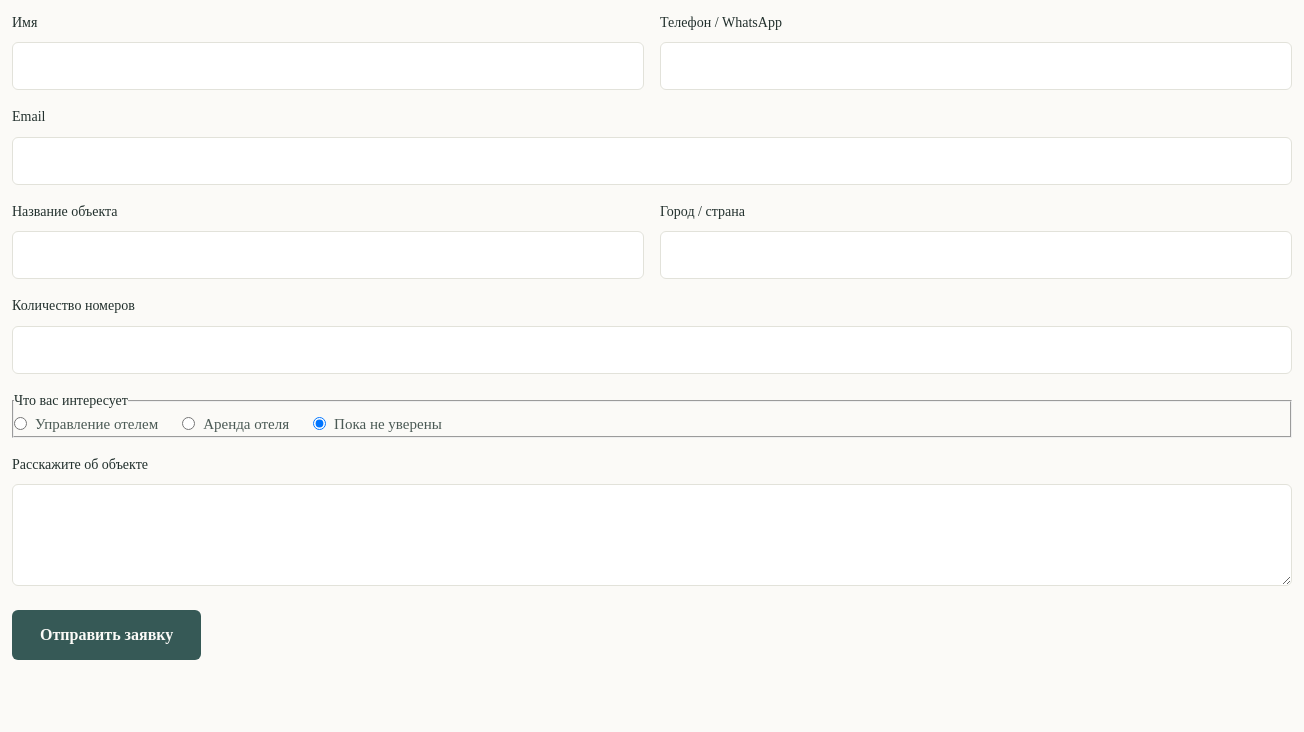
Test: LeadForm › does not submit when required fields are empty
This screenshot has width=1304, height=732.
Click the button "Отправить заявку" at (107, 635), box [12,610,201,660]
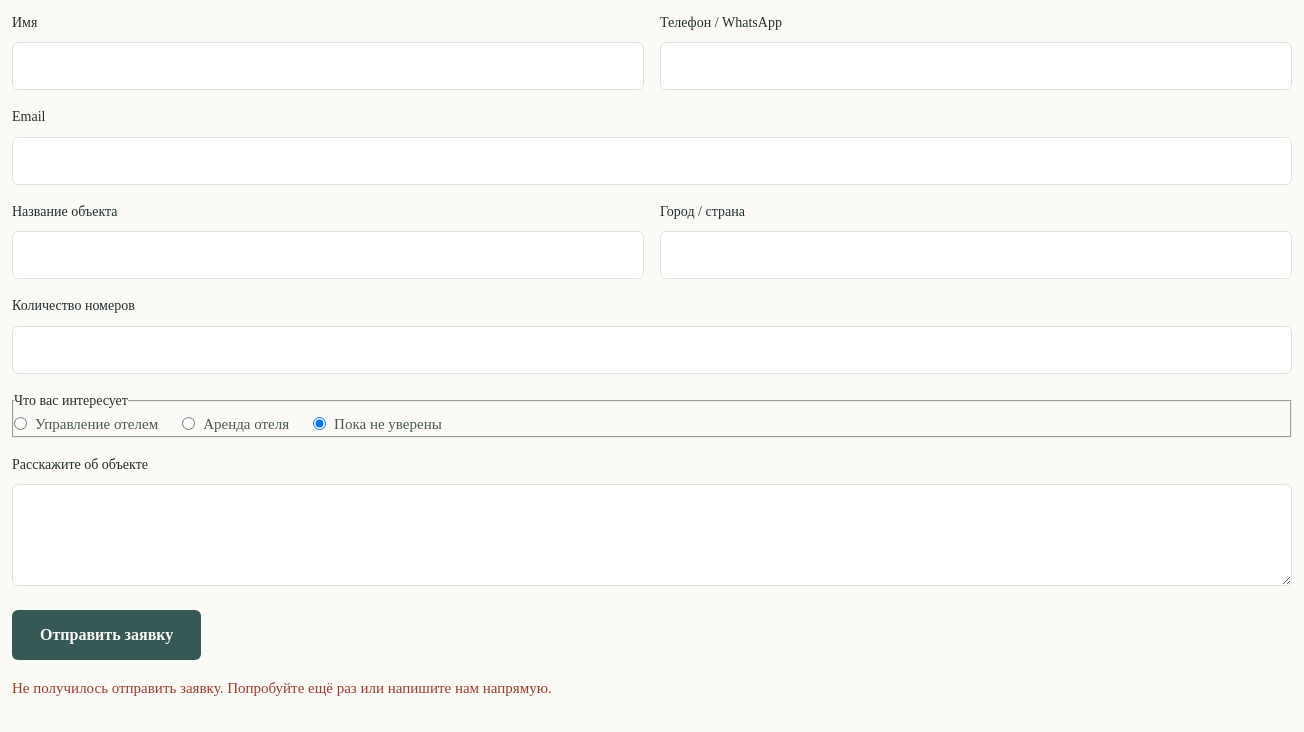
Now the message "Не получилось отправить заявку. Попробуйте ещё раз или напишите нам напрямую." is shown, box [12,680,552,696]
